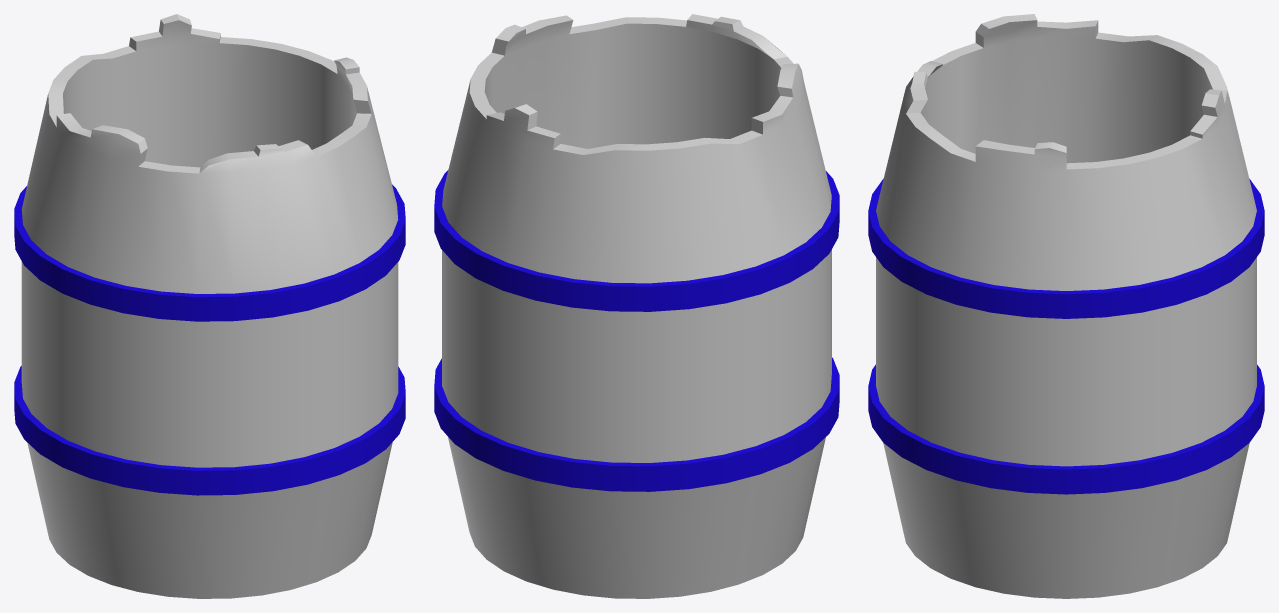
Rendered from Barrell.fbx.
3 views of the same model, side by side, from view 1: azimuth 30°, elevation 25°; view 2: azimuth 150°, elevation 25°; view 3: azimuth 270°, elevation 25° (orthographic). The views are drawn at different scales.
Visible parts, largest first — view 1: Barrell; view 2: Barrell; view 3: Barrell.
Part boxes in pixels (x1,y1,x2,y2): Barrell: (14, 14, 405, 598); Barrell: (434, 14, 839, 598); Barrell: (868, 14, 1264, 598).
Size of the model in its own units: 89.7 by 114 by 89.7.
